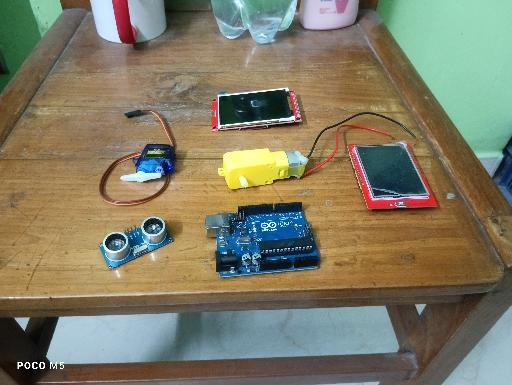Arduino: (204, 200, 321, 279)
Display: (345, 141, 440, 212), (210, 86, 303, 133)
Motor: (217, 148, 310, 191), (120, 142, 177, 183)
sensor: (97, 215, 175, 271)
